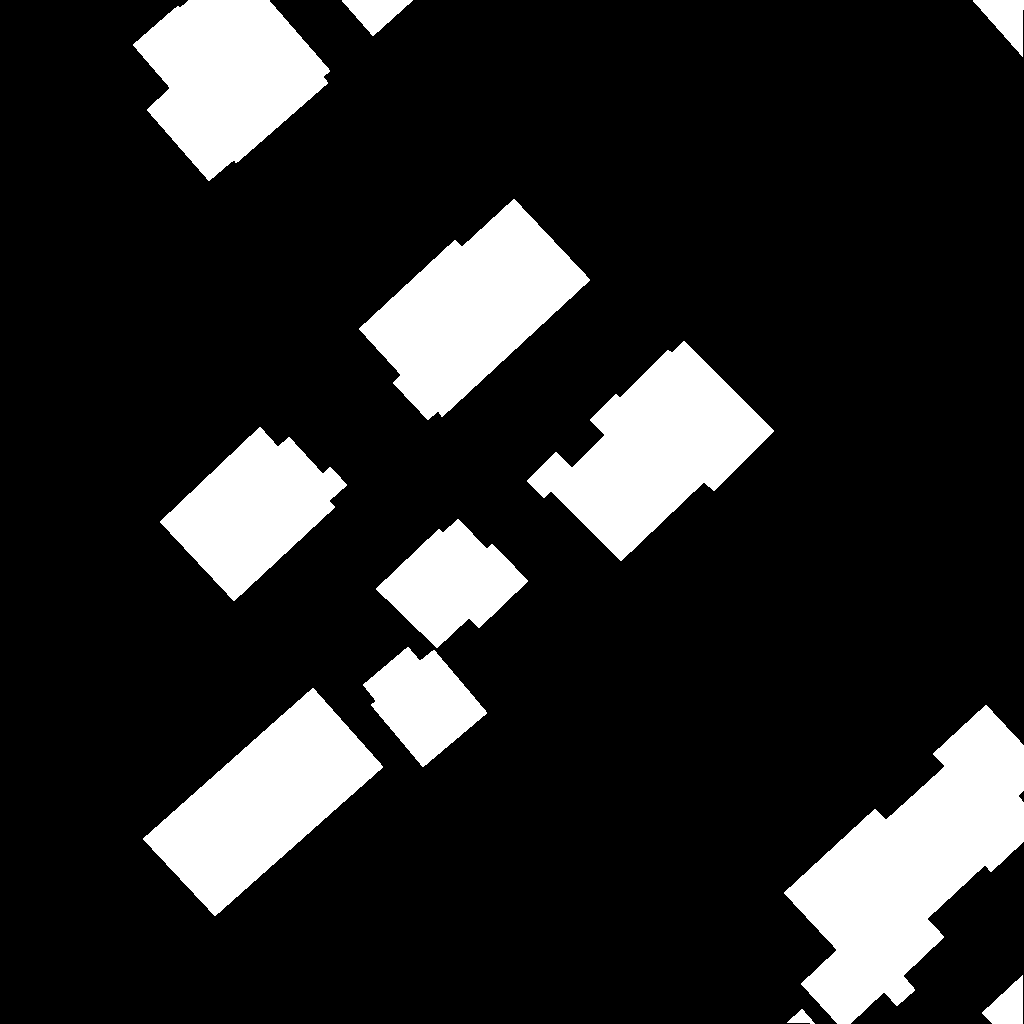building: (784, 705, 1024, 1024), (143, 688, 384, 917), (527, 341, 775, 562), (359, 199, 591, 421), (133, 0, 331, 182), (160, 427, 348, 602), (376, 519, 529, 649), (363, 647, 488, 768), (972, 0, 1024, 58), (341, 0, 414, 37), (982, 975, 1024, 1024), (787, 1009, 816, 1024)
